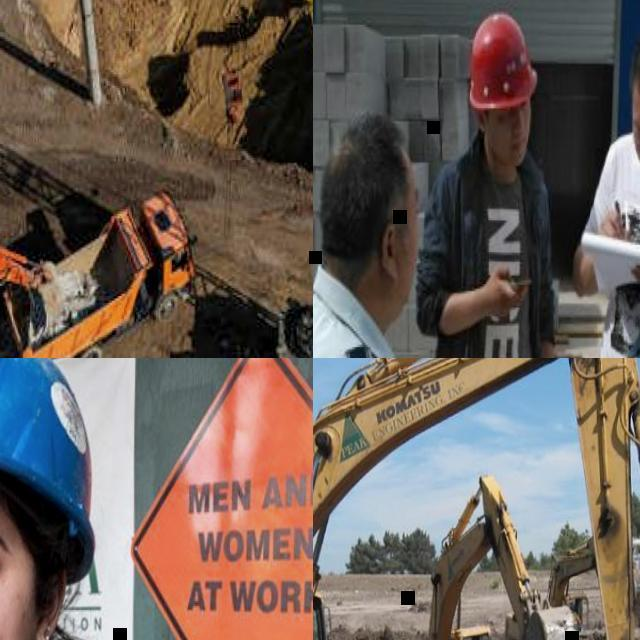Helmet: (0, 353, 121, 580), (455, 17, 553, 98)
Robbery: (422, 0, 587, 359), (279, 76, 444, 357), (0, 355, 130, 640), (573, 29, 640, 355)
